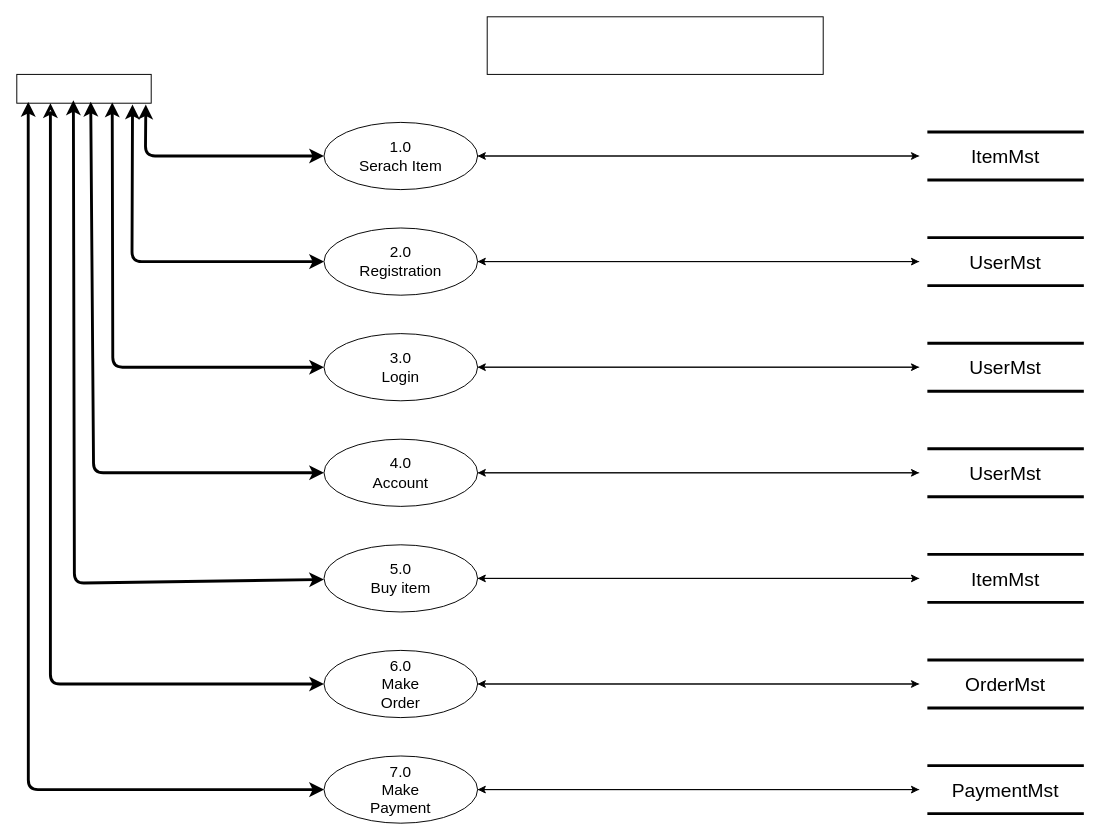
Some shapes in this 1100 by 840 pixel diagram are drawn without their labels. Each missing label, with the box of its shape:
1st Level User side DFD: (486, 16, 823, 74)
User: (16, 73, 151, 103)
